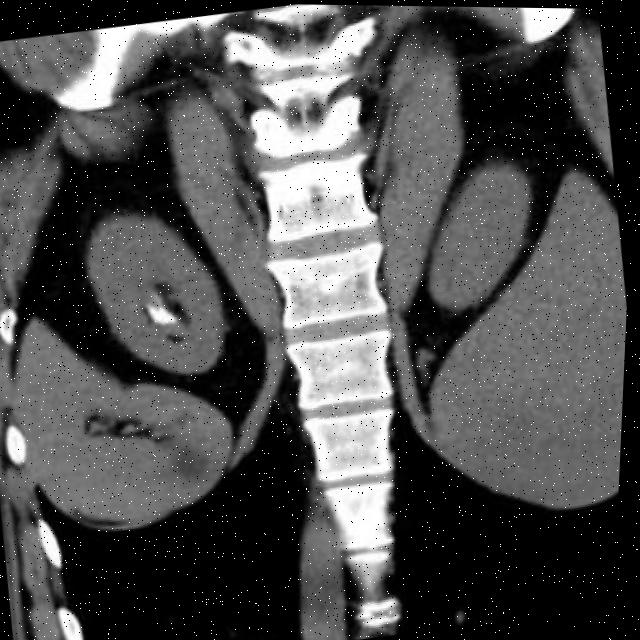Tas_Var: (146, 298, 180, 331)
